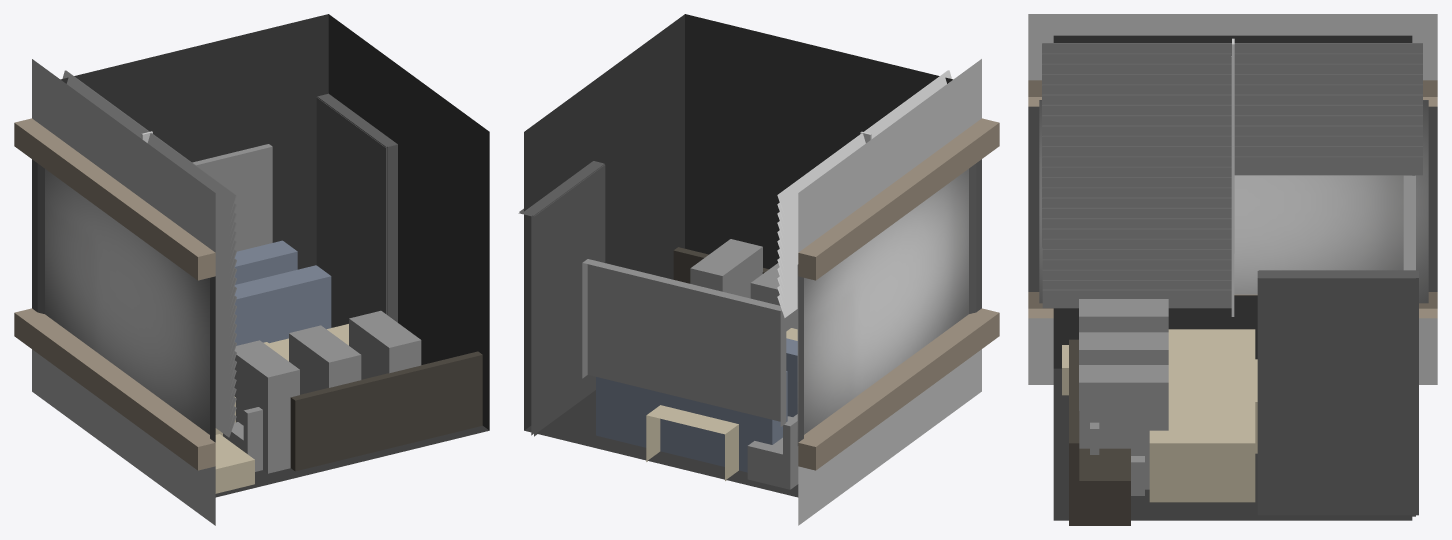
The model's file is Wall_24_A_Fake Interior.FBX.
3 renders of one model, left to right at view 1: azimuth 30°, elevation 25°; view 2: azimuth 150°, elevation 25°; view 3: azimuth 270°, elevation 25°, orthographic. The views are drawn at different scales.
Parts seen in each view (by area): view 1: Wall_24_A_Fake Interior_LOD0, Wall_24_A_Fake Interior_C, Wall_24_A_Fake Interior_B, Wall_24_A_Fake Interior_A, Wall_24_A_Blind_01_LOD0, Wall_24_A_Blind_02_LOD0; view 2: Wall_24_A_Fake Interior_LOD0, Wall_24_A_Fake Interior_B, Wall_24_A_Fake Interior_C, Wall_24_A_Fake Interior_A, Wall_24_A_Blind_01_LOD0; view 3: Wall_24_A_Fake Interior_LOD0, Wall_24_A_Fake Interior_A, Wall_24_A_Blind_01_LOD0, Wall_24_A_Blind_02_LOD0, Wall_24_A_Fake Interior_B, Wall_24_A_Fake Interior_C.
Boxes of the visible parts, left/top/right/bottom form: Wall_24_A_Fake Interior_LOD0: left=14, top=14, right=489, bottom=525; Wall_24_A_Fake Interior_C: left=234, top=93, right=421, bottom=473; Wall_24_A_Fake Interior_B: left=192, top=97, right=387, bottom=471; Wall_24_A_Fake Interior_A: left=215, top=144, right=482, bottom=493; Wall_24_A_Blind_01_LOD0: left=62, top=70, right=236, bottom=437; Wall_24_A_Blind_02_LOD0: left=141, top=131, right=236, bottom=383; Wall_24_A_Fake Interior_LOD0: left=524, top=14, right=999, bottom=525; Wall_24_A_Fake Interior_B: left=533, top=164, right=797, bottom=435; Wall_24_A_Fake Interior_C: left=519, top=161, right=797, bottom=472; Wall_24_A_Fake Interior_A: left=518, top=161, right=798, bottom=489; Wall_24_A_Blind_01_LOD0: left=777, top=70, right=951, bottom=317; Wall_24_A_Fake Interior_LOD0: left=1028, top=14, right=1437, bottom=520; Wall_24_A_Fake Interior_A: left=1062, top=271, right=1418, bottom=525; Wall_24_A_Blind_01_LOD0: left=1042, top=43, right=1422, bottom=316; Wall_24_A_Blind_02_LOD0: left=1042, top=38, right=1234, bottom=253; Wall_24_A_Fake Interior_B: left=1090, top=175, right=1415, bottom=502; Wall_24_A_Fake Interior_C: left=1079, top=270, right=1415, bottom=516.
Size of what is drawn, in the model's own units: 173 by 180 by 180.
